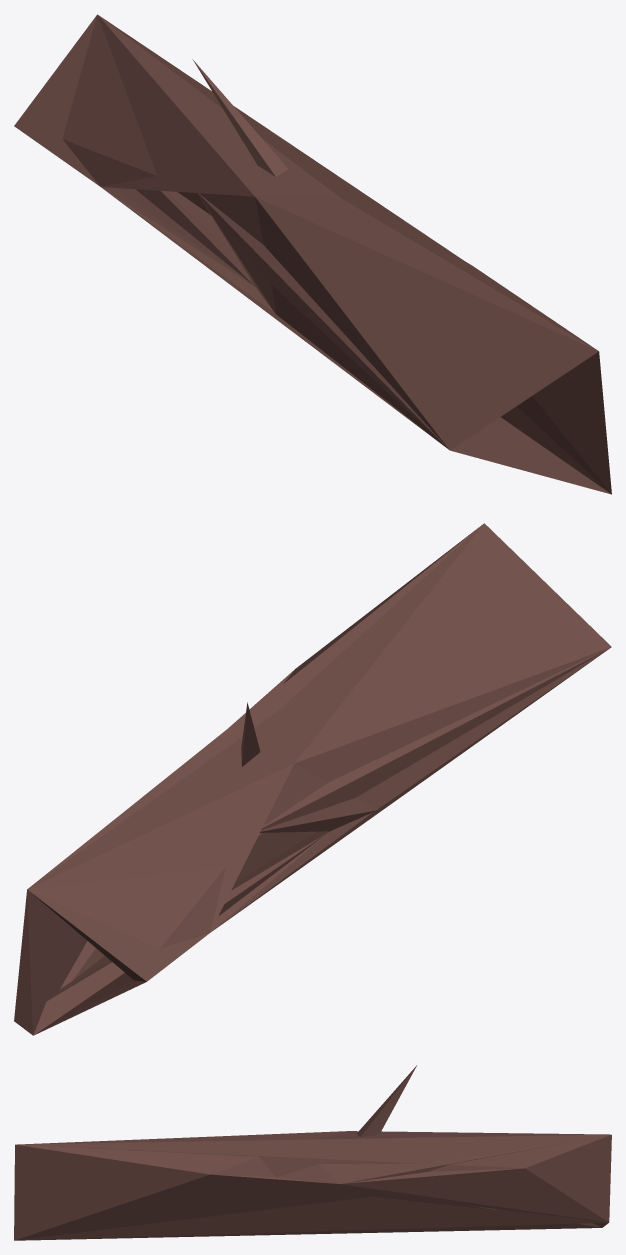
Rendered from WoodLog.lod3.glb.
3 renders of one model, top to bottom at view 1: azimuth 30°, elevation 25°; view 2: azimuth 150°, elevation 25°; view 3: azimuth 270°, elevation 25°, orthographic. The views are drawn at different scales.
Parts seen in each view (by area): view 1: WoodLog; view 2: WoodLog; view 3: WoodLog.
Part boxes in pixels (x1,y1,x2,y2): WoodLog: (14,14,611,494); WoodLog: (14,523,611,1035); WoodLog: (14,1065,611,1240).
Bounding box in the file's own units: 0.5331 × 0.7134 × 2.66.
